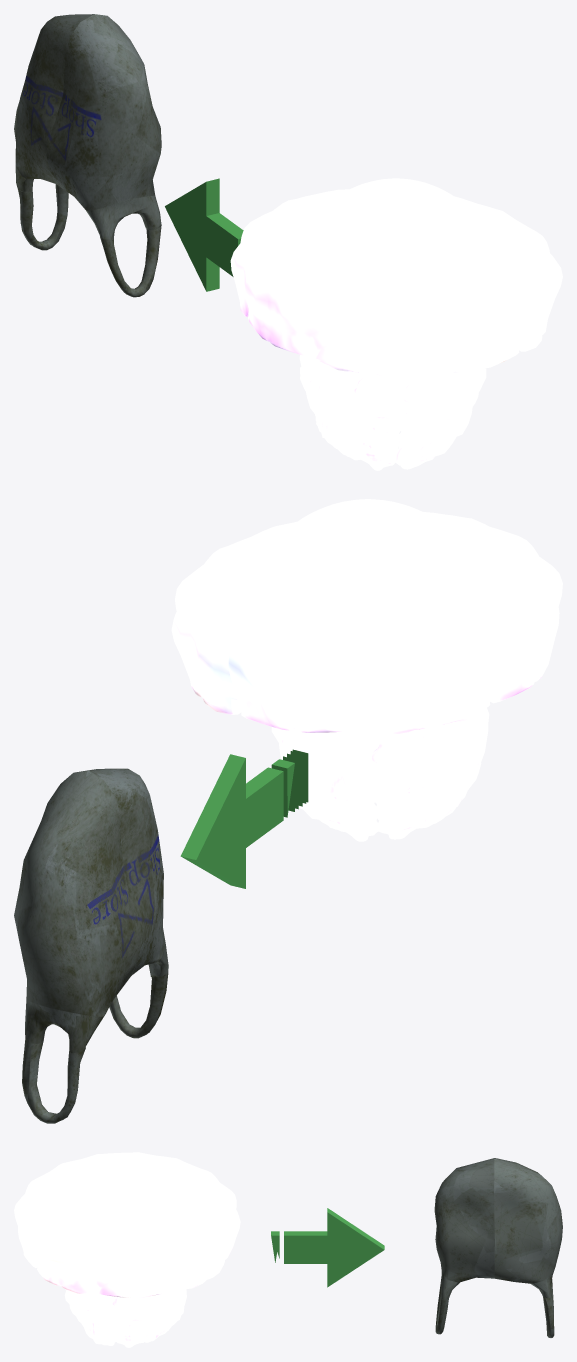
3 renders of one model, top to bottom at view 1: azimuth 30°, elevation 25°; view 2: azimuth 150°, elevation 25°; view 3: azimuth 270°, elevation 25°, orthographic. The views are drawn at different scales.
Visible parts, largest first — view 1: Jellyfish_003Shape, PlasticBag3, Cube; view 2: Jellyfish_003Shape, PlasticBag3, Cube; view 3: Jellyfish_003Shape, PlasticBag3, Cube.
Boxes of the visible parts, bbox=[...] form: Jellyfish_003Shape: bbox=[230, 178, 562, 470]; PlasticBag3: bbox=[14, 14, 161, 297]; Cube: bbox=[165, 178, 243, 291]; Jellyfish_003Shape: bbox=[171, 499, 562, 841]; PlasticBag3: bbox=[14, 768, 168, 1123]; Cube: bbox=[180, 749, 308, 888]; Jellyfish_003Shape: bbox=[14, 1152, 240, 1347]; PlasticBag3: bbox=[434, 1158, 562, 1337]; Cube: bbox=[271, 1208, 384, 1287].
Size of the model in its own units: 4.35 by 4.03 by 10.55.
3 materials, 1 textured.
